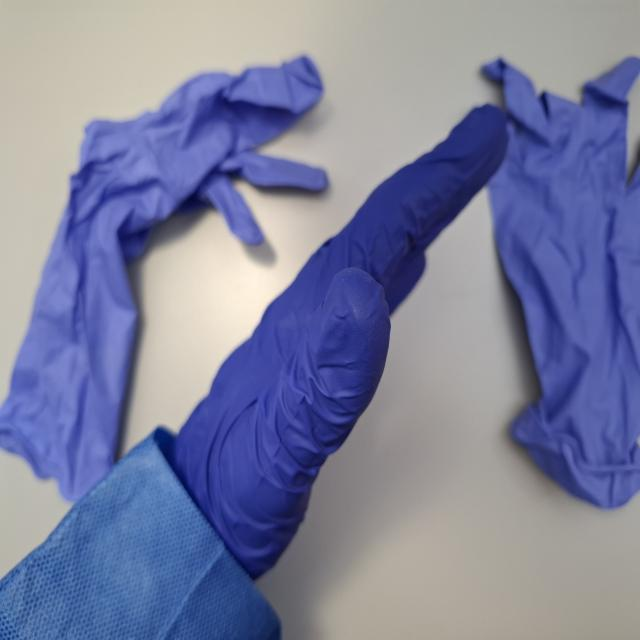glove_on: (151, 98, 511, 586)
